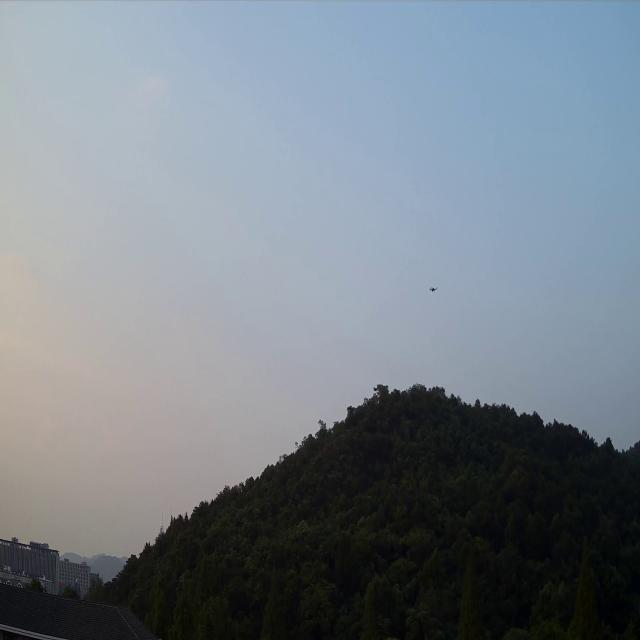UAV: (429, 287, 439, 292)
